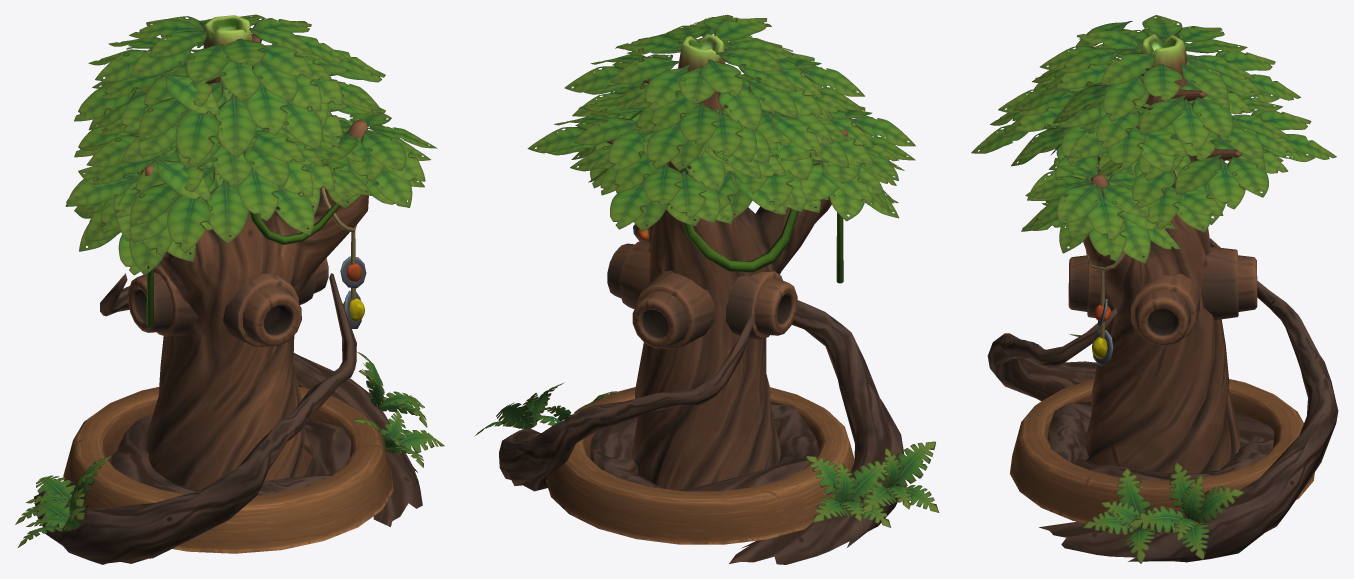
Rendered from SM_TowerDefense_Nature_Lv2.fbx.
3 renders of one model, left to right at view 1: azimuth 30°, elevation 25°; view 2: azimuth 150°, elevation 25°; view 3: azimuth 270°, elevation 25°, orthographic. The views are drawn at different scales.
Visible parts, largest first — view 1: SM_TowerDefense_Nature_Lv2; view 2: SM_TowerDefense_Nature_Lv2; view 3: SM_TowerDefense_Nature_Lv2.
Part boxes in pixels (bbox=[...]): SM_TowerDefense_Nature_Lv2: bbox=[15, 14, 444, 564]; SM_TowerDefense_Nature_Lv2: bbox=[475, 14, 939, 564]; SM_TowerDefense_Nature_Lv2: bbox=[971, 15, 1338, 563].
Size of the model in its own units: 1404 by 1428 by 1085.
